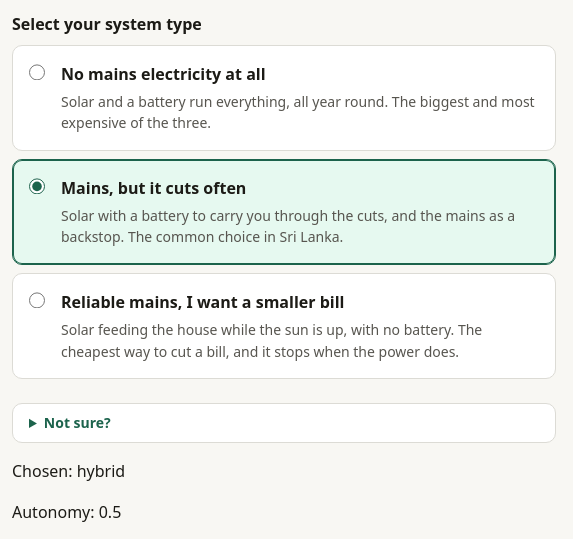
StepSystemType › records the choice and re-applies the matching autonomy default
Click the radio button labelled "No mains electricity": click(37, 72) 29,64 -> 45,80
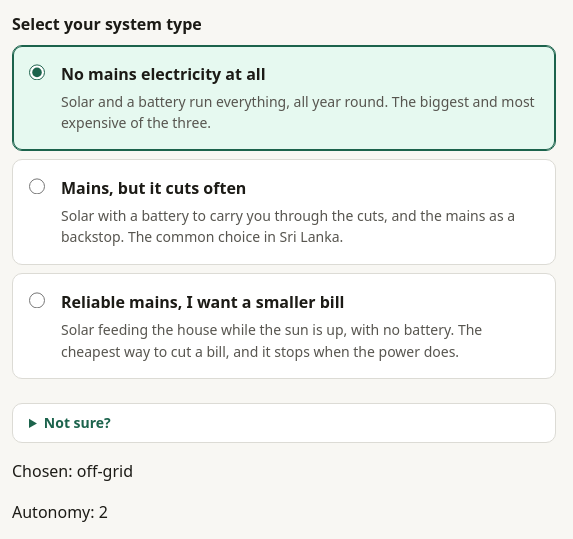
Now the text "Chosen: off-grid" is shown, box 12,460 -> 133,482
Now the text "Autonomy: 2" is shown, box 12,501 -> 108,523
